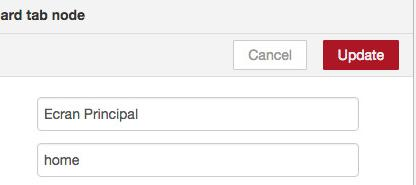button: (321, 38, 400, 71), (232, 40, 310, 71)
field: (34, 141, 363, 178), (36, 96, 362, 131)
